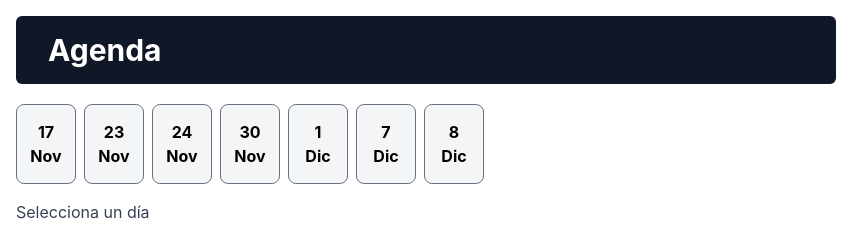
Test: NutricionistaAgenda › muestra "no hay reservas agendadas" si la lista esta vacia
Step 1. Click the button "17 Nov" → x=46, y=144, box top-left (16, 104), bottom-right (76, 184)
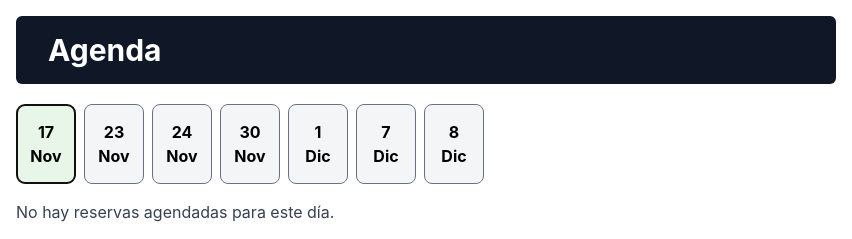
Expected: the text "No hay reservas agendadas para este día." is shown, top-left (16, 202), bottom-right (334, 222)
